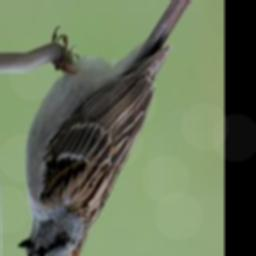Sparrow: (14, 0, 213, 256)
